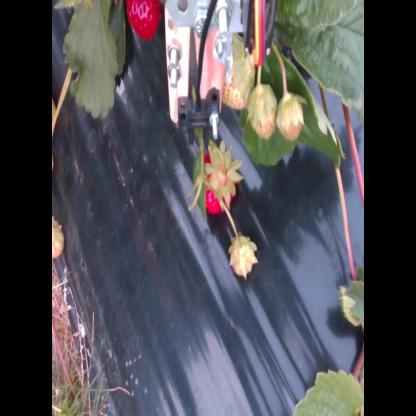ripe: (194, 147, 236, 218), (124, 0, 165, 44)
unripe: (220, 33, 252, 108), (248, 82, 276, 140), (279, 90, 307, 144), (228, 236, 257, 280)
